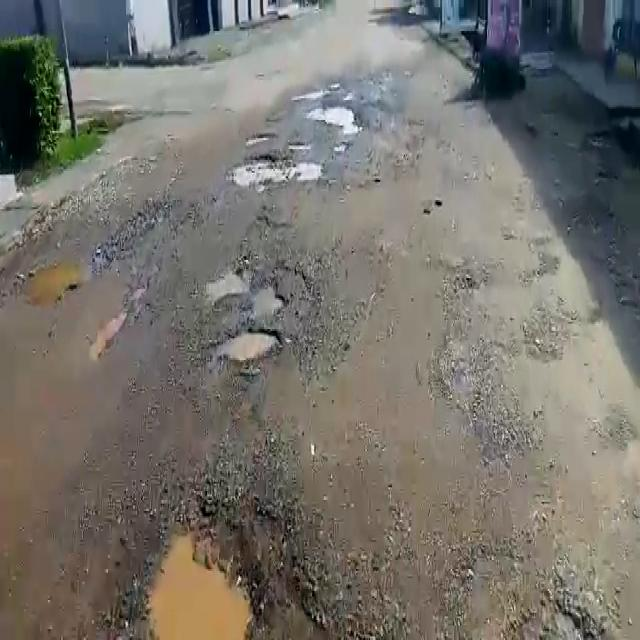Pothole: (140, 517, 254, 640), (209, 263, 287, 316), (20, 259, 90, 307), (231, 147, 317, 185), (218, 324, 280, 365), (310, 101, 363, 129), (291, 86, 327, 101), (242, 130, 276, 142)
